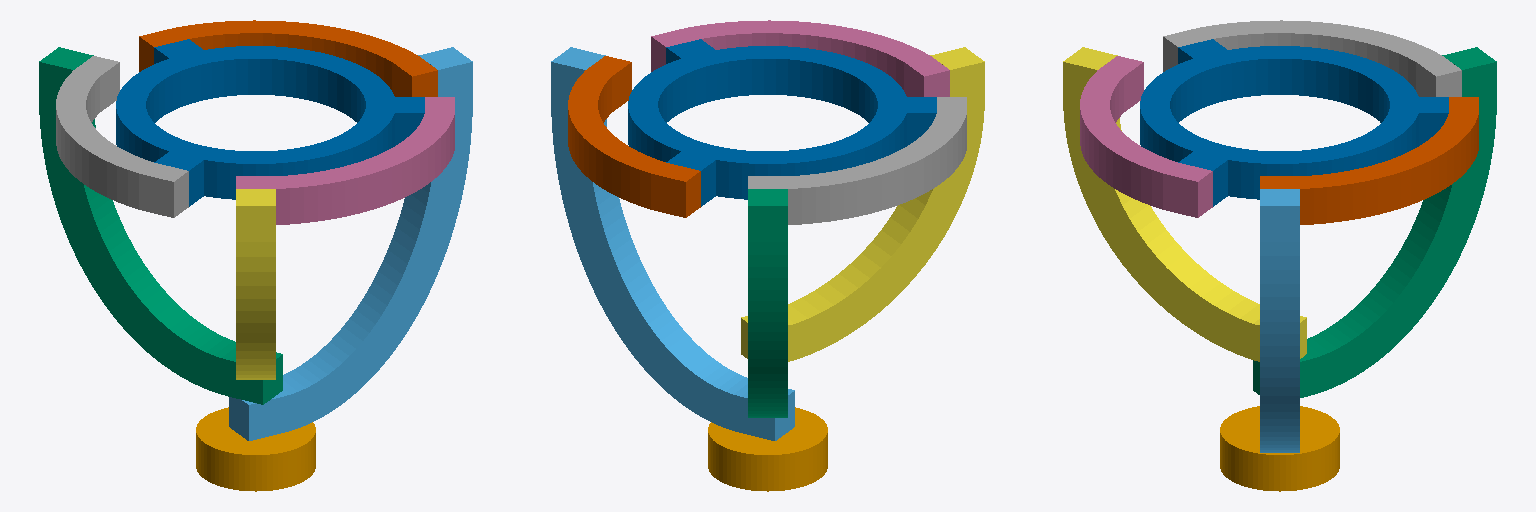
robot.urdf — hw4:
<?xml version="1.0" ?>
<robot name="hw4">

<mujoco>
 <compiler balanceinertia="true" discardvisual="false" meshdir="meshes" fusestatic="false"/>
</mujoco>



<link name="base_link">
  <inertial>
    <origin xyz="2.947961272379547e-06 1.7020062398140353e-06 -0.08464742961242605" rpy="0 0 0"/>
    <mass value="0.05548838024402977"/>
    <inertia ixx="3.583624557426809e-06" iyy="3.5836245574269714e-06" izz="6.24244277745326e-06" ixy="-1.3944401648859297e-21" iyz="-1.6543612251060553e-24" ixz="1.343341314786117e-21"/>
  </inertial>
  <visual>
    <origin xyz="0 0 0" rpy="0 0 0"/>
    <geometry>
      <mesh filename="meshes/base_link.stl" scale="0.001 0.001 0.001"/>
    </geometry>

  </visual>
  <collision>
    <origin xyz="0 0 0" rpy="0 0 0"/>
    <geometry>
      <mesh filename="meshes/base_link.stl" scale="0.001 0.001 0.001"/>
    </geometry>
  </collision>
</link>

<link name="gray1">
  <inertial>
    <origin xyz="0.03689442782896013 -2.9799375905419726e-07 0.03682409612765272" rpy="0 0 0"/>
    <mass value="0.09256125296696066"/>
    <inertia ixx="6.902894655531761e-05" iyy="9.924995874875518e-05" izz="3.1763699742886925e-05" ixy="1.6783494628700932e-21" iyz="7.793695731474627e-21" ixz="-3.992085781158431e-05"/>
  </inertial>
  <visual>
    <origin xyz="-3e-06 -2e-06 0.079647" rpy="0 0 0"/>
    <geometry>
      <mesh filename="meshes/gray1.stl" scale="0.001 0.001 0.001"/>
    </geometry>

  </visual>
  <collision>
    <origin xyz="-3e-06 -2e-06 0.079647" rpy="0 0 0"/>
    <geometry>
      <mesh filename="meshes/gray1.stl" scale="0.001 0.001 0.001"/>
    </geometry>
  </collision>
</link>

<link name="blue1">
  <inertial>
    <origin xyz="-0.018076880437923243 0.031309687233351466 0.03190373790229752" rpy="0 0 0"/>
    <mass value="0.08636998280684359"/>
    <inertia ixx="7.179206374893313e-05" iyy="5.725547073325254e-05" izz="3.0512685744808846e-05" ixy="1.2589058836055037e-05" iyz="-2.870519450048968e-05" ixz="1.657295177199837e-05"/>
  </inertial>
  <visual>
    <origin xyz="-3e-06 -2e-06 0.069605" rpy="0 0 0"/>
    <geometry>
      <mesh filename="meshes/blue1.stl" scale="0.001 0.001 0.001"/>
    </geometry>

  </visual>
  <collision>
    <origin xyz="-3e-06 -2e-06 0.069605" rpy="0 0 0"/>
    <geometry>
      <mesh filename="meshes/blue1.stl" scale="0.001 0.001 0.001"/>
    </geometry>
  </collision>
</link>

<link name="black1">
  <inertial>
    <origin xyz="-0.017528270578903712 -0.030360063071514478 0.027594606491727118" rpy="0 0 0"/>
    <mass value="0.07934494764666122"/>
    <inertia ixx="5.438066064398757e-05" iyy="4.058429404108474e-05" izz="2.8915148999916914e-05" ixy="-1.194800395803718e-05" iyz="2.3044126763921732e-05" ixz="1.3304532790390087e-05"/>
  </inertial>
  <visual>
    <origin xyz="-3e-06 -2e-06 0.059563" rpy="0 0 0"/>
    <geometry>
      <mesh filename="meshes/black1.stl" scale="0.001 0.001 0.001"/>
    </geometry>

  </visual>
  <collision>
    <origin xyz="-3e-06 -2e-06 0.059563" rpy="0 0 0"/>
    <geometry>
      <mesh filename="meshes/black1.stl" scale="0.001 0.001 0.001"/>
    </geometry>
  </collision>
</link>

<link name="red_circle1">
  <inertial>
    <origin xyz="0.03655 0.02110200000000002 0.0" rpy="0 0 0"/>
    <mass value="0.1328494533797179"/>
    <inertia ixx="7.128828899418336e-05" iyy="7.12882889941812e-05" izz="0.00014036242043203592" ixy="-2.2311041902867143e-20" iyz="0.0" ixz="0.0"/>
  </inertial>
  <visual>
    <origin xyz="0.03655 0.021102 -0.005" rpy="0 0 0"/>
    <geometry>
      <mesh filename="meshes/red_circle1.stl" scale="0.001 0.001 0.001"/>
    </geometry>

  </visual>
  <collision>
    <origin xyz="0.03655 0.021102 -0.005" rpy="0 0 0"/>
    <geometry>
      <mesh filename="meshes/red_circle1.stl" scale="0.001 0.001 0.001"/>
    </geometry>
  </collision>
</link>

<link name="white1">
  <inertial>
    <origin xyz="-0.021200544926956843 0.02854897463941347 9.194034422677078e-17" rpy="0 0 0"/>
    <mass value="0.048719283262776136"/>
    <inertia ixx="1.3017739936066853e-05" iyy="1.3017287864230324e-05" izz="2.5223039745917575e-05" ixy="1.10771849454237e-05" iyz="1.6940658945086007e-21" ixz="2.541098841762901e-21"/>
  </inertial>
  <visual>
    <origin xyz="-0.049754 -2e-06 -0.005" rpy="0 0 0"/>
    <geometry>
      <mesh filename="meshes/white1.stl" scale="0.001 0.001 0.001"/>
    </geometry>

  </visual>
  <collision>
    <origin xyz="-0.049754 -2e-06 -0.005" rpy="0 0 0"/>
    <geometry>
      <mesh filename="meshes/white1.stl" scale="0.001 0.001 0.001"/>
    </geometry>
  </collision>
</link>

<link name="yellow1">
  <inertial>
    <origin xyz="0.03532365800269549 0.0040846195832517085 -2.5153490401663703e-17" rpy="0 0 0"/>
    <mass value="0.0487166111129637"/>
    <inertia ixx="3.423382421803979e-06" iyy="2.2608901861225888e-05" izz="2.5220340764480455e-05" ixy="-5.537138694725243e-06" iyz="1.6940658945086007e-21" ixz="0.0"/>
  </inertial>
  <visual>
    <origin xyz="0.024873 0.043084 -0.005" rpy="0 0 0"/>
    <geometry>
      <mesh filename="meshes/yellow1.stl" scale="0.001 0.001 0.001"/>
    </geometry>

  </visual>
  <collision>
    <origin xyz="0.024873 0.043084 -0.005" rpy="0 0 0"/>
    <geometry>
      <mesh filename="meshes/yellow1.stl" scale="0.001 0.001 0.001"/>
    </geometry>
  </collision>
</link>

<link name="green1">
  <inertial>
    <origin xyz="-0.014123835212836479 -0.032632739089515514 -1.734723475976807e-18" rpy="0 0 0"/>
    <mass value="0.04871661111298049"/>
    <inertia ixx="2.2607824775283357e-05" iyy="3.4244595077509004e-06" izz="2.5220340764484548e-05" ixy="-5.539004262305704e-06" iyz="-1.6940658945086007e-21" ixz="3.3881317890172014e-21"/>
  </inertial>
  <visual>
    <origin xyz="0.024873 -0.043087 -0.005" rpy="0 0 0"/>
    <geometry>
      <mesh filename="meshes/green1.stl" scale="0.001 0.001 0.001"/>
    </geometry>

  </visual>
  <collision>
    <origin xyz="0.024873 -0.043087 -0.005" rpy="0 0 0"/>
    <geometry>
      <mesh filename="meshes/green1.stl" scale="0.001 0.001 0.001"/>
    </geometry>
  </collision>
</link>

<joint name="Revolute_17" type="continuous">
  <origin xyz="3e-06 2e-06 -0.079647" rpy="0 0 0"/>
  <parent link="base_link"/>
  <child link="gray1"/>
  <axis xyz="0.0 0.0 1.0"/>
</joint>
<transmission name="Revolute_17_tran">
  <type>transmission_interface/SimpleTransmission</type>
  <joint name="Revolute_17">
    <hardwareInterface>PositionJointInterface</hardwareInterface>
  </joint>
  <actuator name="Revolute_17_actr">
    <hardwareInterface>PositionJointInterface</hardwareInterface>
    <mechanicalReduction>1</mechanicalReduction>
  </actuator>
</transmission>

<joint name="Revolute_18" type="continuous">
  <origin xyz="0.0 0.0 0.010042" rpy="0 0 0"/>
  <parent link="gray1"/>
  <child link="blue1"/>
  <axis xyz="0.0 0.0 1.0"/>
</joint>
<transmission name="Revolute_18_tran">
  <type>transmission_interface/SimpleTransmission</type>
  <joint name="Revolute_18">
    <hardwareInterface>PositionJointInterface</hardwareInterface>
  </joint>
  <actuator name="Revolute_18_actr">
    <hardwareInterface>PositionJointInterface</hardwareInterface>
    <mechanicalReduction>1</mechanicalReduction>
  </actuator>
</transmission>

<joint name="Revolute_19" type="continuous">
  <origin xyz="0.0 0.0 0.010042" rpy="0 0 0"/>
  <parent link="blue1"/>
  <child link="black1"/>
  <axis xyz="-0.0 0.0 1.0"/>
</joint>
<transmission name="Revolute_19_tran">
  <type>transmission_interface/SimpleTransmission</type>
  <joint name="Revolute_19">
    <hardwareInterface>PositionJointInterface</hardwareInterface>
  </joint>
  <actuator name="Revolute_19_actr">
    <hardwareInterface>PositionJointInterface</hardwareInterface>
    <mechanicalReduction>1</mechanicalReduction>
  </actuator>
</transmission>

<joint name="Revolute_20" type="continuous">
  <origin xyz="-0.011677 -0.064189 0.0" rpy="0 0 0"/>
  <parent link="green1"/>
  <child link="red_circle1"/>
  <axis xyz="0.866025 0.5 0.0"/>
</joint>
<transmission name="Revolute_20_tran">
  <type>transmission_interface/SimpleTransmission</type>
  <joint name="Revolute_20">
    <hardwareInterface>PositionJointInterface</hardwareInterface>
  </joint>
  <actuator name="Revolute_20_actr">
    <hardwareInterface>PositionJointInterface</hardwareInterface>
    <mechanicalReduction>1</mechanicalReduction>
  </actuator>
</transmission>

<joint name="Revolute_21" type="continuous">
  <origin xyz="0.049751 0.0 0.084647" rpy="0 0 0"/>
  <parent link="gray1"/>
  <child link="white1"/>
  <axis xyz="-1.0 0.0 0.0"/>
</joint>
<transmission name="Revolute_21_tran">
  <type>transmission_interface/SimpleTransmission</type>
  <joint name="Revolute_21">
    <hardwareInterface>PositionJointInterface</hardwareInterface>
  </joint>
  <actuator name="Revolute_21_actr">
    <hardwareInterface>PositionJointInterface</hardwareInterface>
    <mechanicalReduction>1</mechanicalReduction>
  </actuator>
</transmission>

<joint name="Revolute_22" type="continuous">
  <origin xyz="-0.024876 -0.043086 0.064563" rpy="0 0 0"/>
  <parent link="black1"/>
  <child link="yellow1"/>
  <axis xyz="0.5 0.866025 0.0"/>
</joint>
<transmission name="Revolute_22_tran">
  <type>transmission_interface/SimpleTransmission</type>
  <joint name="Revolute_22">
    <hardwareInterface>PositionJointInterface</hardwareInterface>
  </joint>
  <actuator name="Revolute_22_actr">
    <hardwareInterface>PositionJointInterface</hardwareInterface>
    <mechanicalReduction>1</mechanicalReduction>
  </actuator>
</transmission>

<joint name="Revolute_23" type="continuous">
  <origin xyz="-0.024876 0.043085 0.074605" rpy="0 0 0"/>
  <parent link="blue1"/>
  <child link="green1"/>
  <axis xyz="0.5 -0.866025 0.0"/>
</joint>
<transmission name="Revolute_23_tran">
  <type>transmission_interface/SimpleTransmission</type>
  <joint name="Revolute_23">
    <hardwareInterface>PositionJointInterface</hardwareInterface>
  </joint>
  <actuator name="Revolute_23_actr">
    <hardwareInterface>PositionJointInterface</hardwareInterface>
    <mechanicalReduction>1</mechanicalReduction>
  </actuator>
</transmission>

</robot>

--- Facts derived from the render (not from the file) ---
3 views of the same robot in one strip: view 1: azimuth 30°, elevation 25°; view 2: azimuth 150°, elevation 25°; view 3: azimuth 270°, elevation 25° (orthographic).
Robot: hw4 — 8 links, 7 joints (7 continuous); root link base_link; default pose: every joint at zero.
Visible links, largest first — view 1: red_circle1, gray1, blue1, yellow1, green1, white1, black1, base_link; view 2: red_circle1, gray1, black1, green1, white1, blue1, yellow1, base_link; view 3: red_circle1, blue1, black1, white1, gray1, yellow1, green1, base_link.
Boxes of the visible links, box(x1,y1,x2,y2) form: red_circle1: box(116, 39, 424, 206); gray1: box(229, 47, 472, 440); blue1: box(39, 47, 282, 404); yellow1: box(236, 97, 454, 224); green1: box(56, 56, 188, 217); white1: box(139, 20, 437, 96); black1: box(236, 189, 275, 379); base_link: box(196, 407, 315, 491); red_circle1: box(628, 39, 936, 206); gray1: box(551, 47, 794, 440); black1: box(741, 47, 984, 361); green1: box(748, 97, 966, 224); white1: box(568, 56, 700, 217); blue1: box(748, 189, 787, 417); yellow1: box(651, 20, 949, 96); base_link: box(708, 407, 827, 491); red_circle1: box(1140, 39, 1448, 206); blue1: box(1253, 47, 1496, 397); black1: box(1063, 47, 1306, 361); white1: box(1260, 97, 1478, 224); gray1: box(1260, 189, 1299, 452); yellow1: box(1080, 56, 1212, 217); green1: box(1163, 20, 1461, 96); base_link: box(1220, 406, 1339, 491).
Size in the robot's own frame: 0.1097 by 0.1085 by 0.0997 metres.
Meshes: 8 distinct files referenced, 8 mesh visuals loaded (8 binary STL).